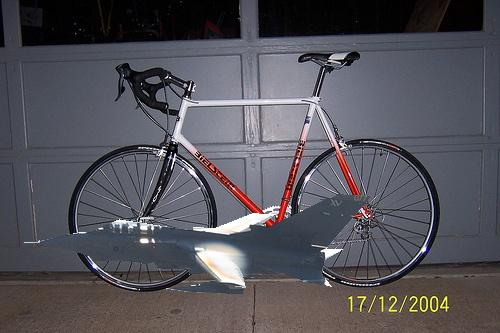tampered: (25, 195, 370, 294)
